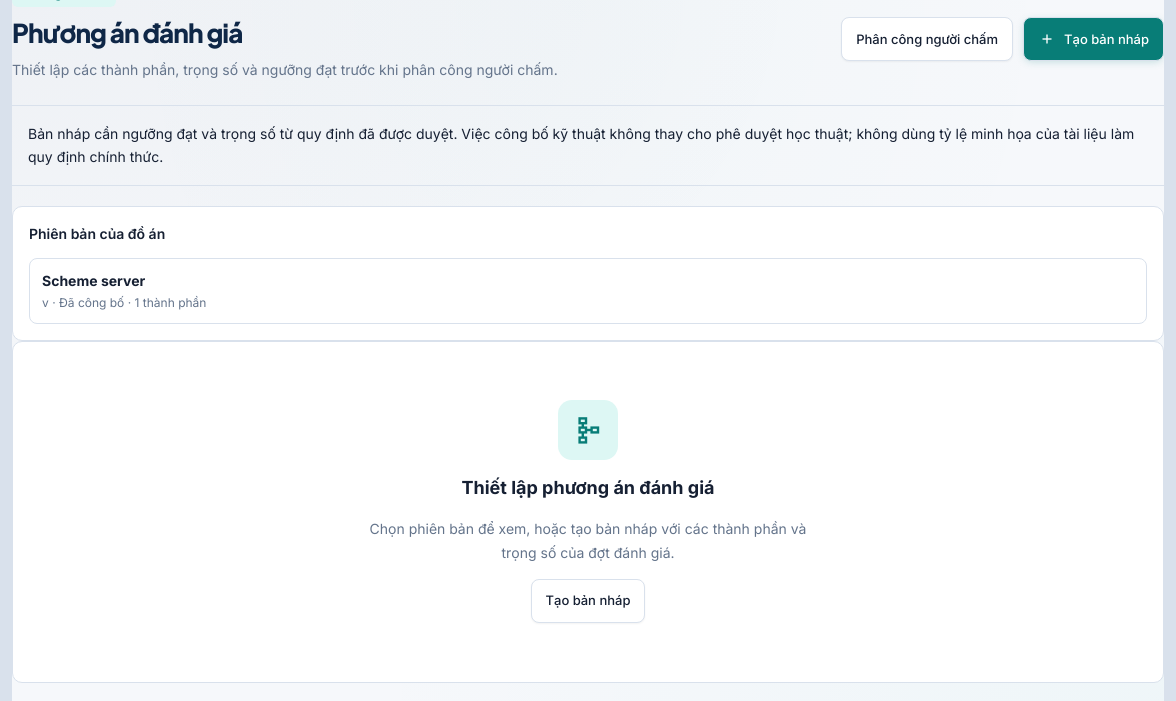
Test: loads published values without making the frozen scheme editable
This screenshot has width=1176, height=701.
Click the button "Scheme server v · Đã công bố · 1 thành phần": (94, 280) [29, 258, 1147, 324]
(page scrolled)
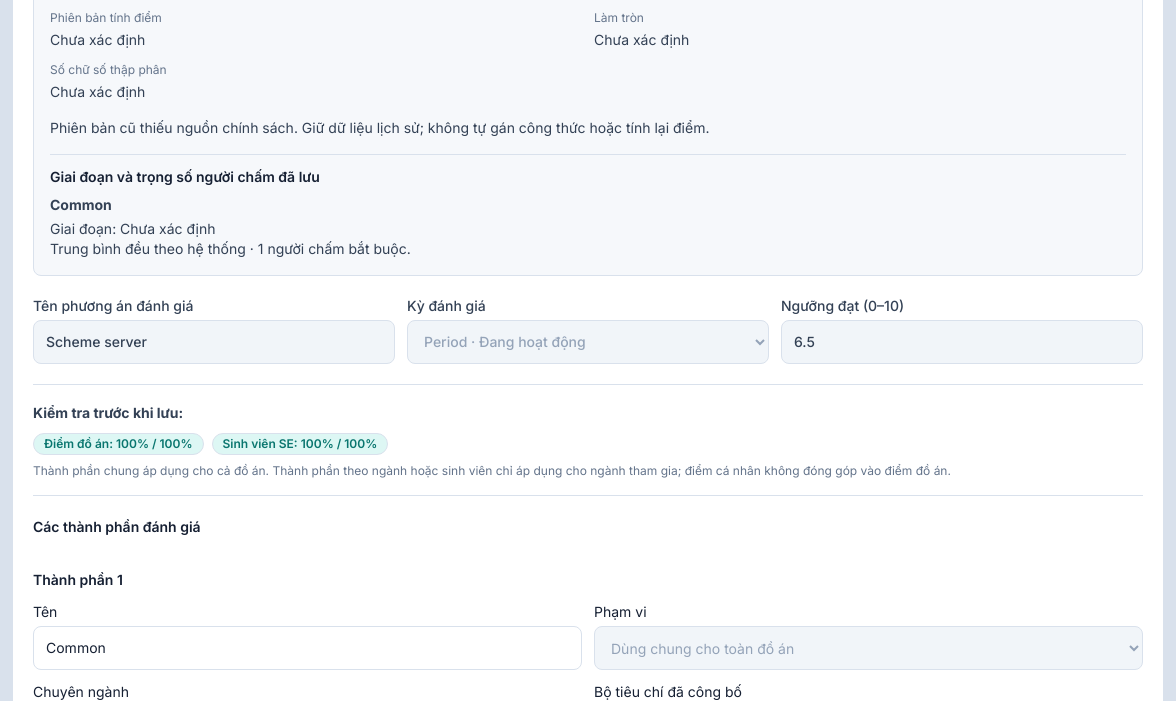
Now the number field labelled "Ngưỡng đạt (0–10)" holds "6.5", box [781, 320, 1143, 364]
Now the number field labelled "Ngưỡng đạt (0–10)" is disabled, box [781, 320, 1143, 364]
